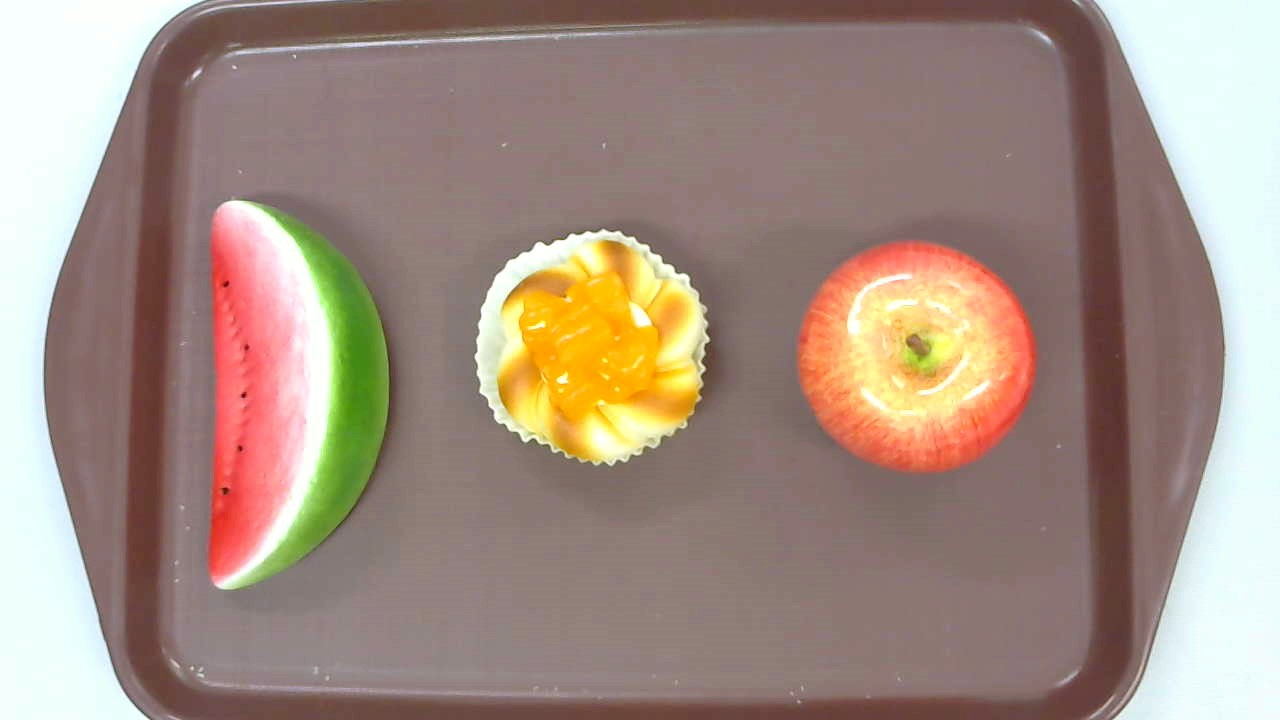mango tart: (474, 228, 710, 469)
red apple: (797, 240, 1035, 474)
water melon: (206, 201, 389, 591)
